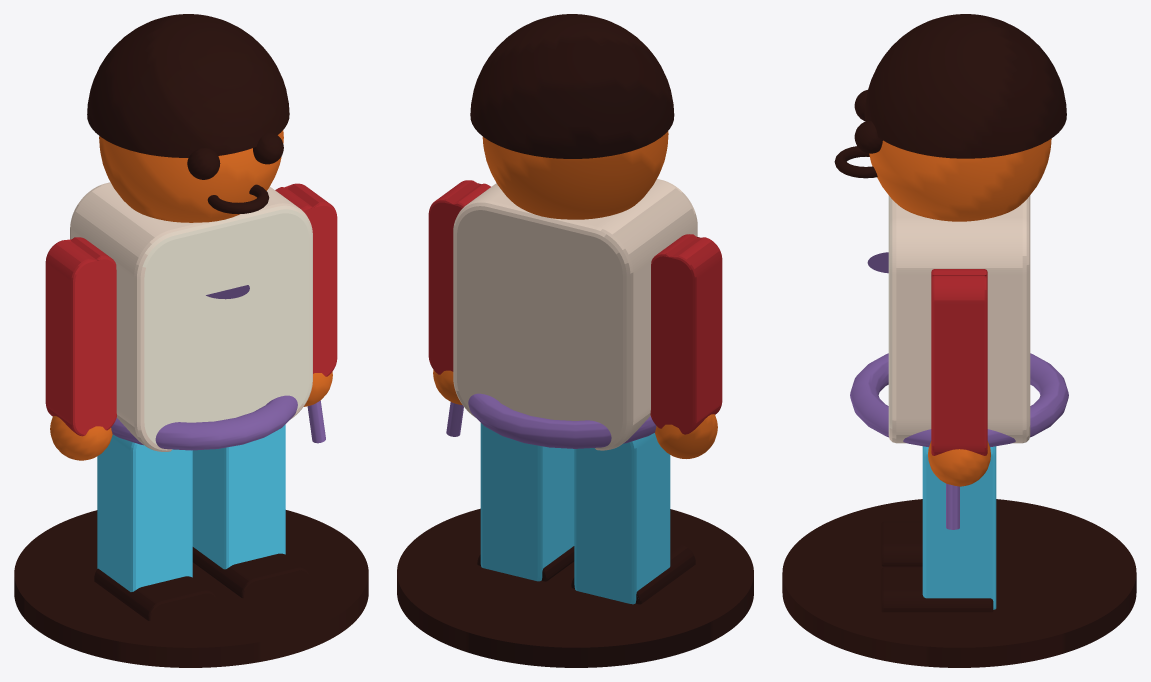
File: 0252_世界古代文明图鉴_太阳神雕像.glb
The picture shows the model from 3 angles, left to right: view 1: azimuth 30°, elevation 25°; view 2: azimuth 150°, elevation 25°; view 3: azimuth 270°, elevation 25°; orthographic projection.
Visible parts, largest first — view 1: card_0252; view 2: card_0252; view 3: card_0252.
Part boxes in pixels (left/top/right/bottom): card_0252: left=14, top=14, right=368, bottom=667; card_0252: left=397, top=14, right=753, bottom=667; card_0252: left=782, top=14, right=1136, bottom=667.
Size of the model in its own units: 0.5667 by 1 by 0.5636.
